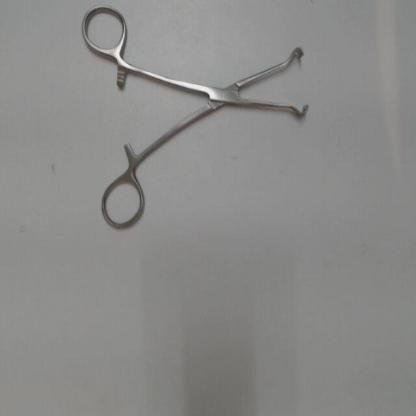Babcock Tissue Forceps: (78, 4, 316, 235)
